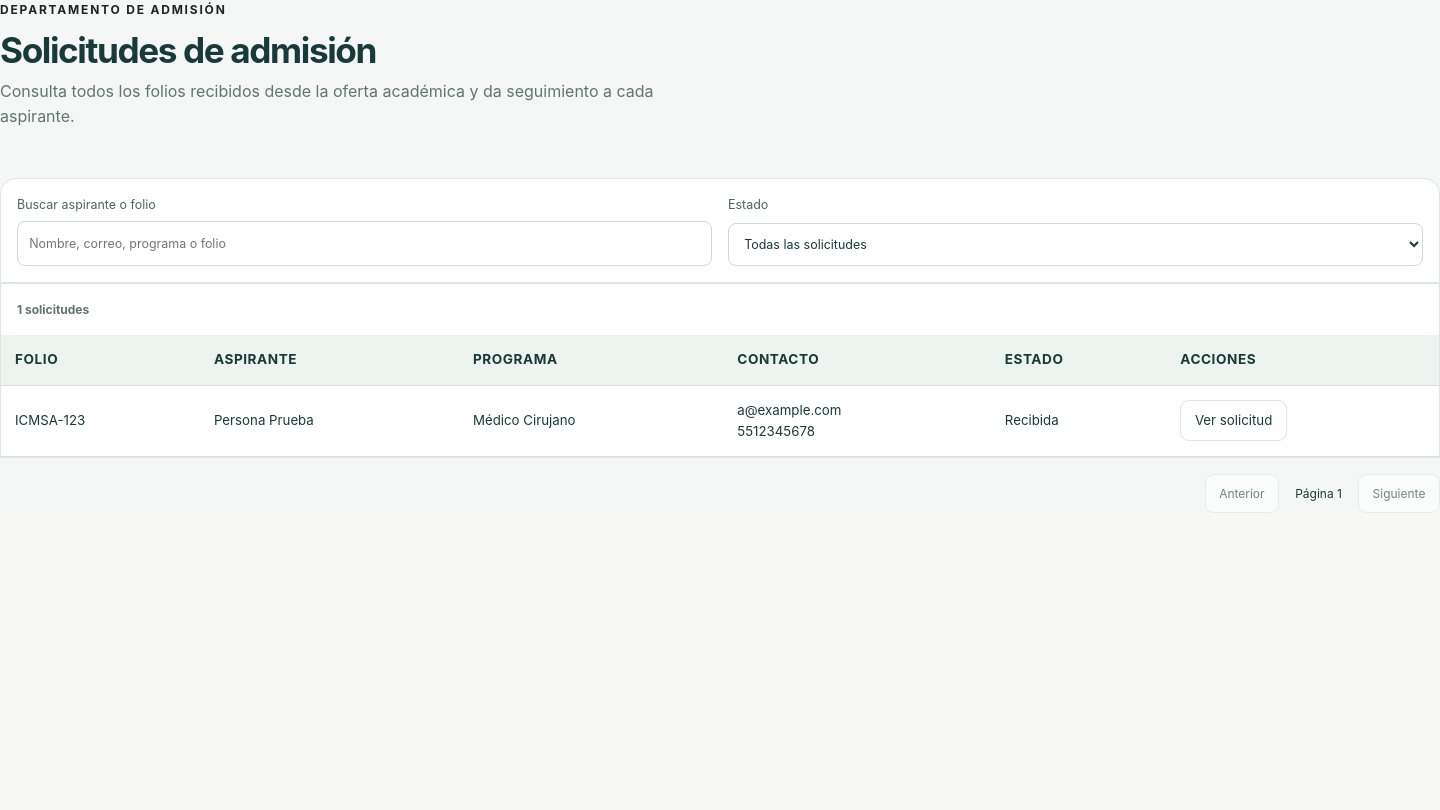
Test: lists admissions in the dedicated department and saves a review
Click the button "Ver solicitud": (1234, 421) [1180,400,1287,441]
(page scrolled)
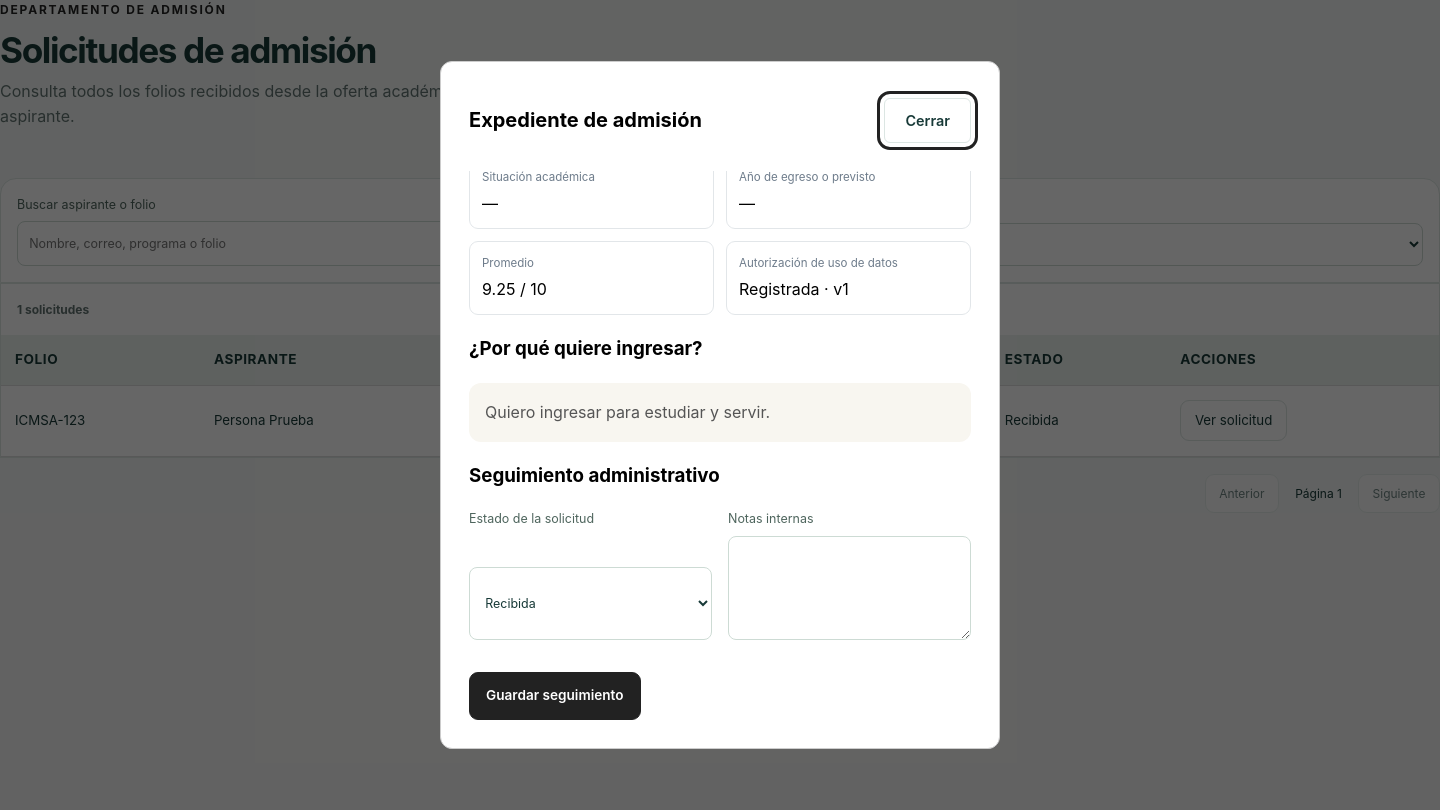
Now the text "Quiero ingresar para estudiar y servir." is shown, box [469,383,971,442]
Select "En revisión" in the dropdown labelled "Estado de la solicitud": (590, 604) [469,567,712,640]
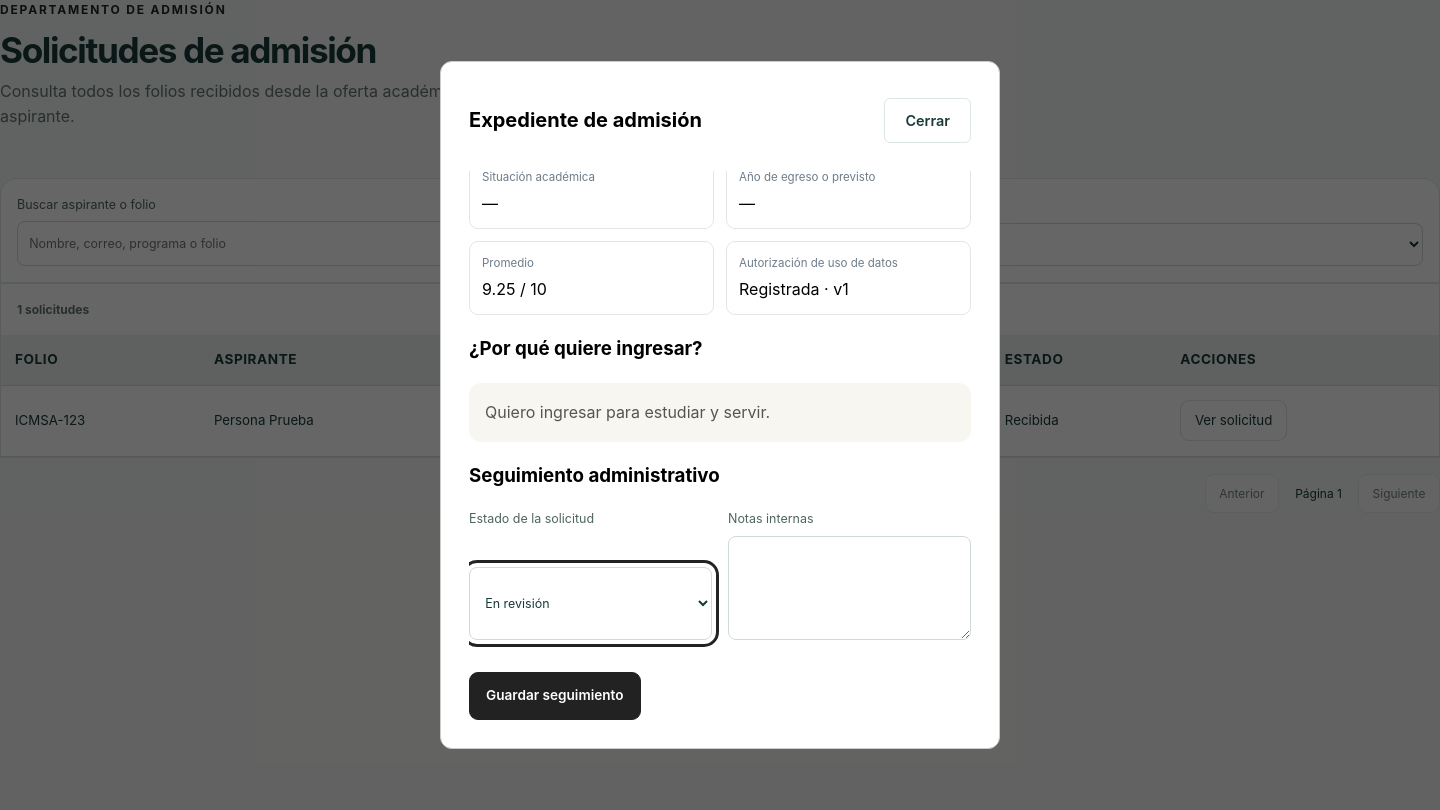
Click the button "Guardar seguimiento": (555, 696) [469,672,640,720]
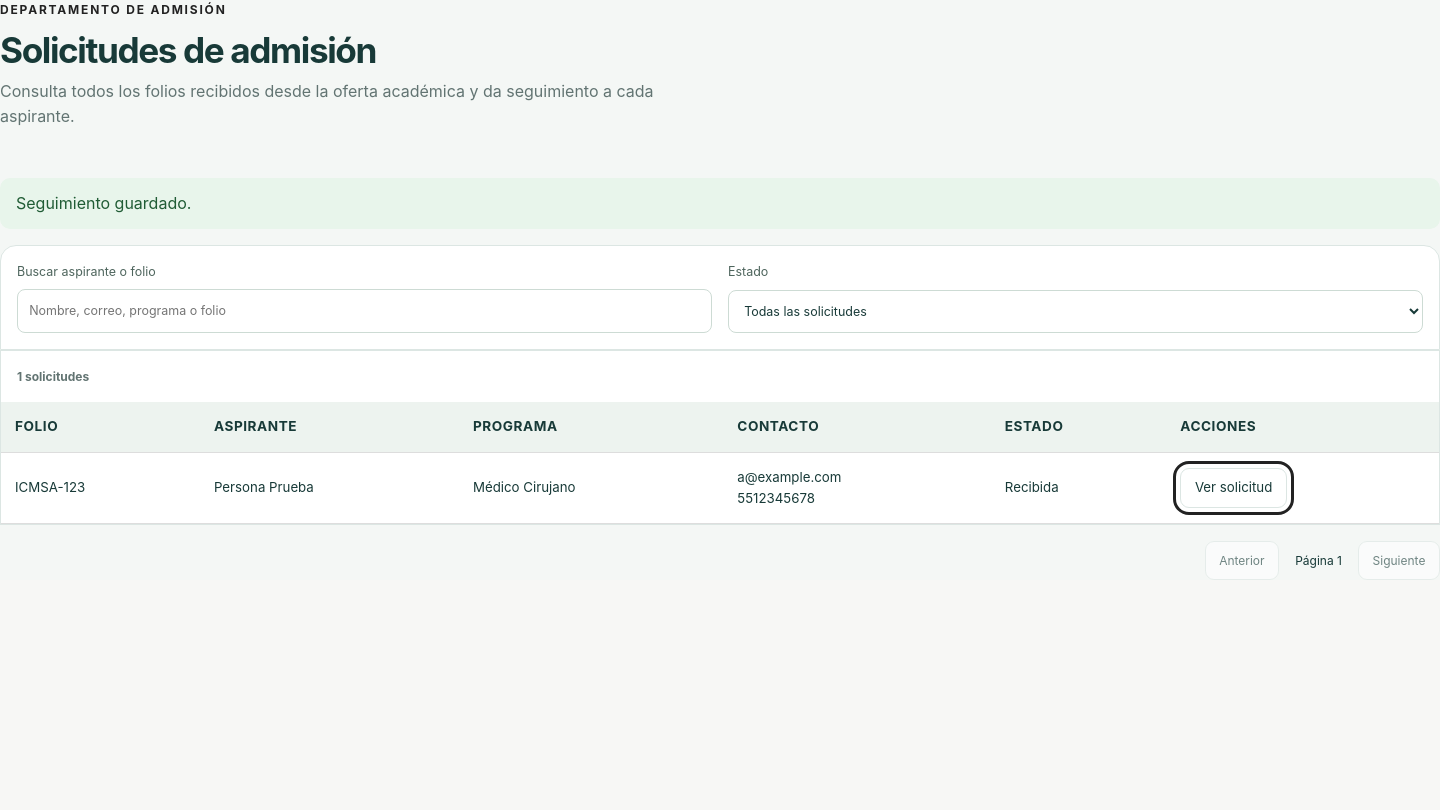
Now the dialog is gone
